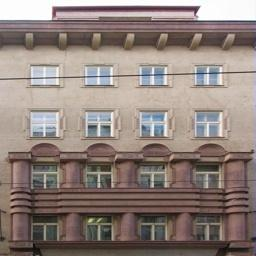building: (0, 0, 255, 242)
